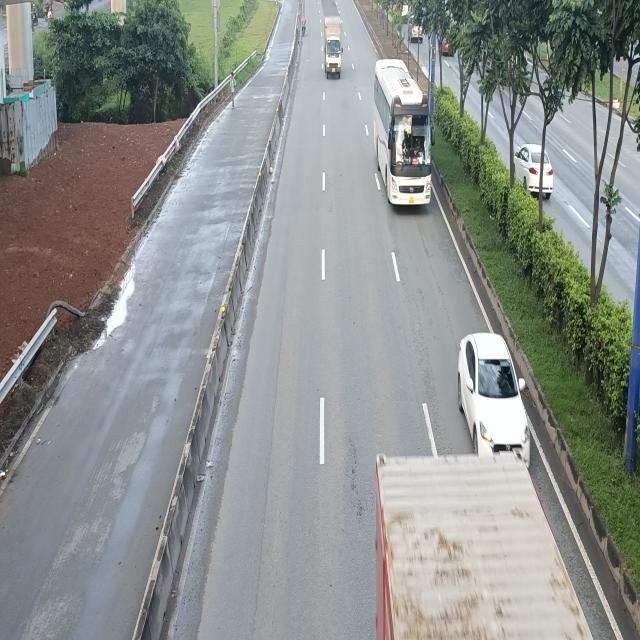coach: (371, 59, 433, 211)
truck: (324, 16, 346, 78)
